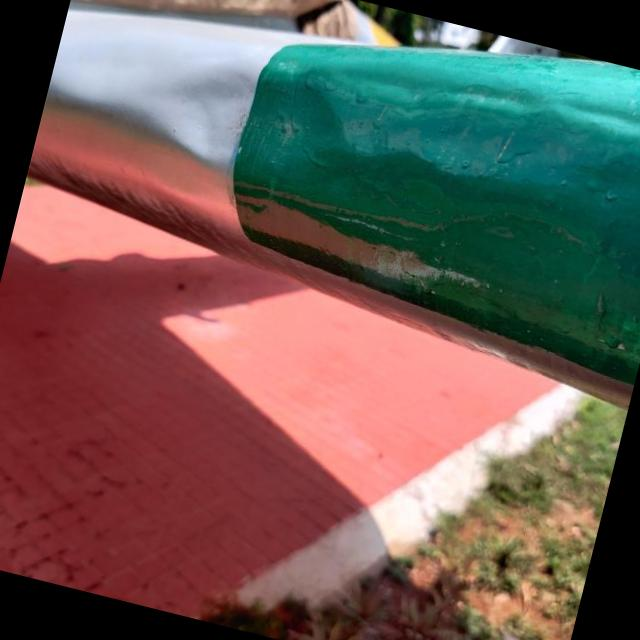Dent: (126, 18, 298, 184)
